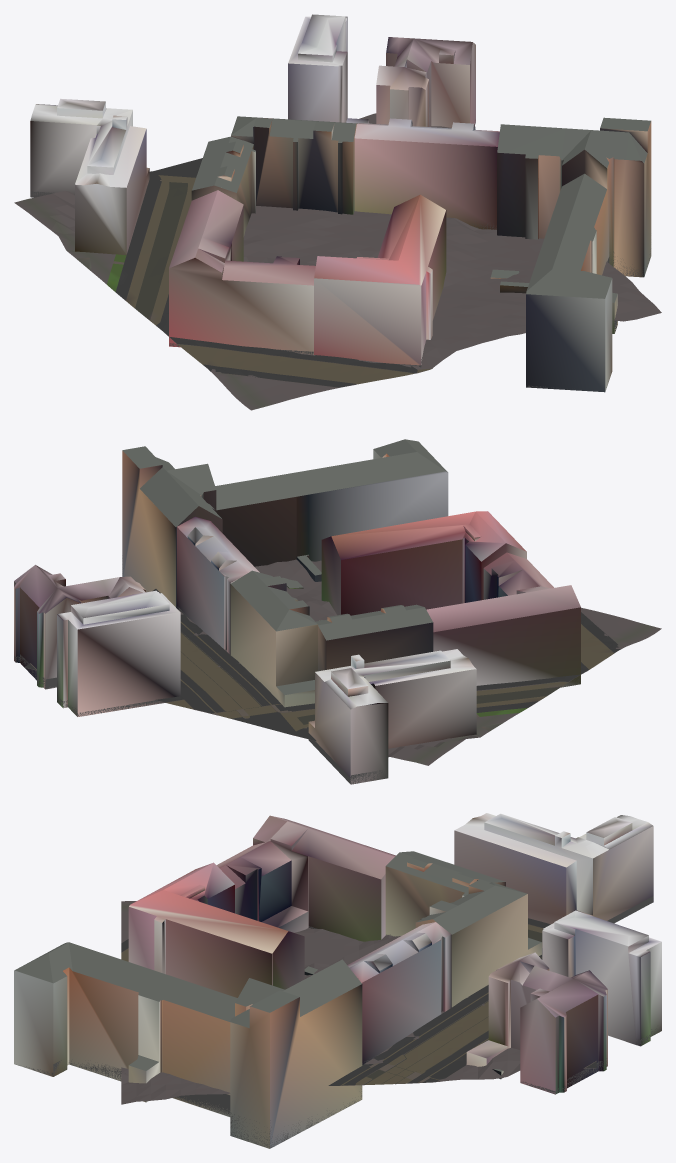
3 views of the same model, one above another, from view 1: azimuth 30°, elevation 25°; view 2: azimuth 150°, elevation 25°; view 3: azimuth 270°, elevation 25° (orthographic).
Parts seen in each view (by area): view 1: c_p00_m12; view 2: c_p00_m12; view 3: c_p00_m12.
Part boxes in pixels (x1,y1,x2,y2): c_p00_m12: (14, 14, 661, 410); c_p00_m12: (14, 439, 661, 784); c_p00_m12: (14, 813, 661, 1148).
Size of the model in its own units: 148 by 42.34 by 174.
